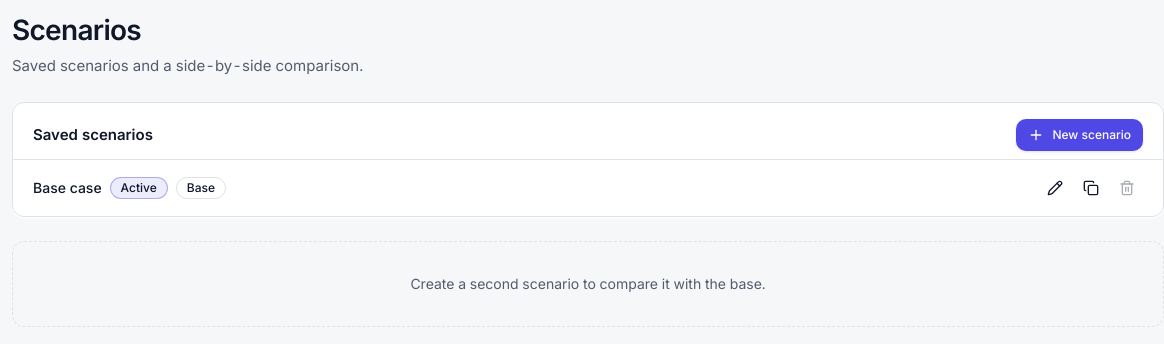
Test: Scenarios › Esc while renaming cancels without committing via blur
Step 1. Click the button named "Rename Base case" → (1055, 188), box left=1039, top=172, right=1071, bottom=204
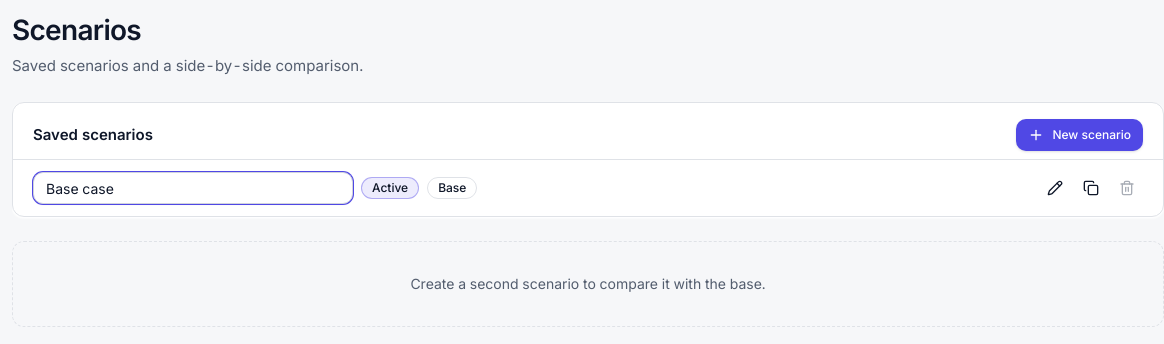
Step 2. Replace the text in the field named "Rename Base case" with "Typo" → (193, 188), box left=33, top=172, right=353, bottom=204
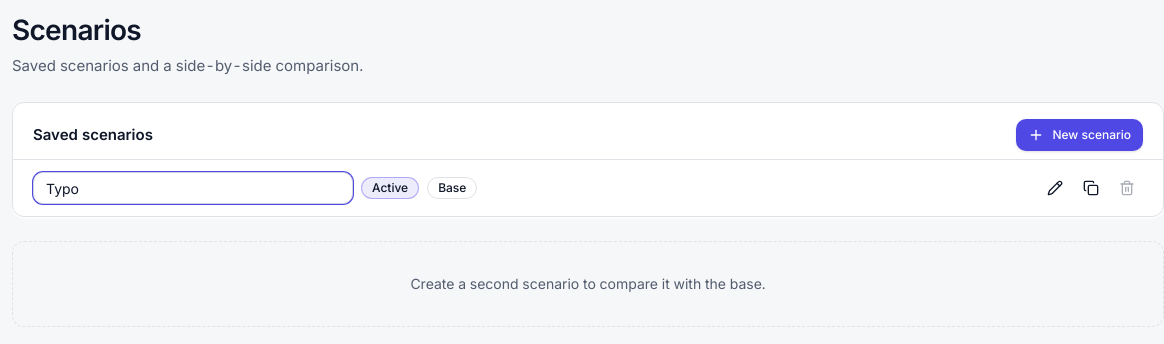
# A browser blurs the input as Esc removes it: key and blur arrive before React re-renders.
Step 3. Press Escape in the field named "Rename Base case", box left=33, top=172, right=353, bottom=204
Step 4. Leave the field named "Rename Base case", box left=33, top=172, right=353, bottom=204
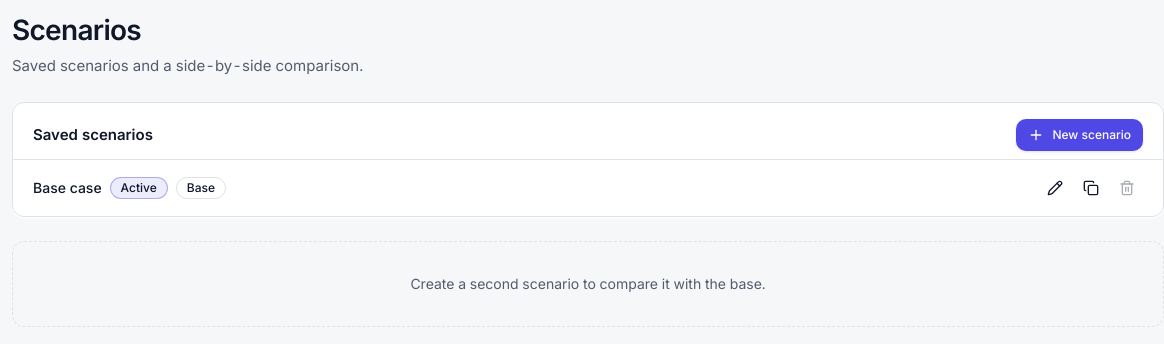
Expected: the text "Base case" is shown, left=33, top=178, right=102, bottom=198
